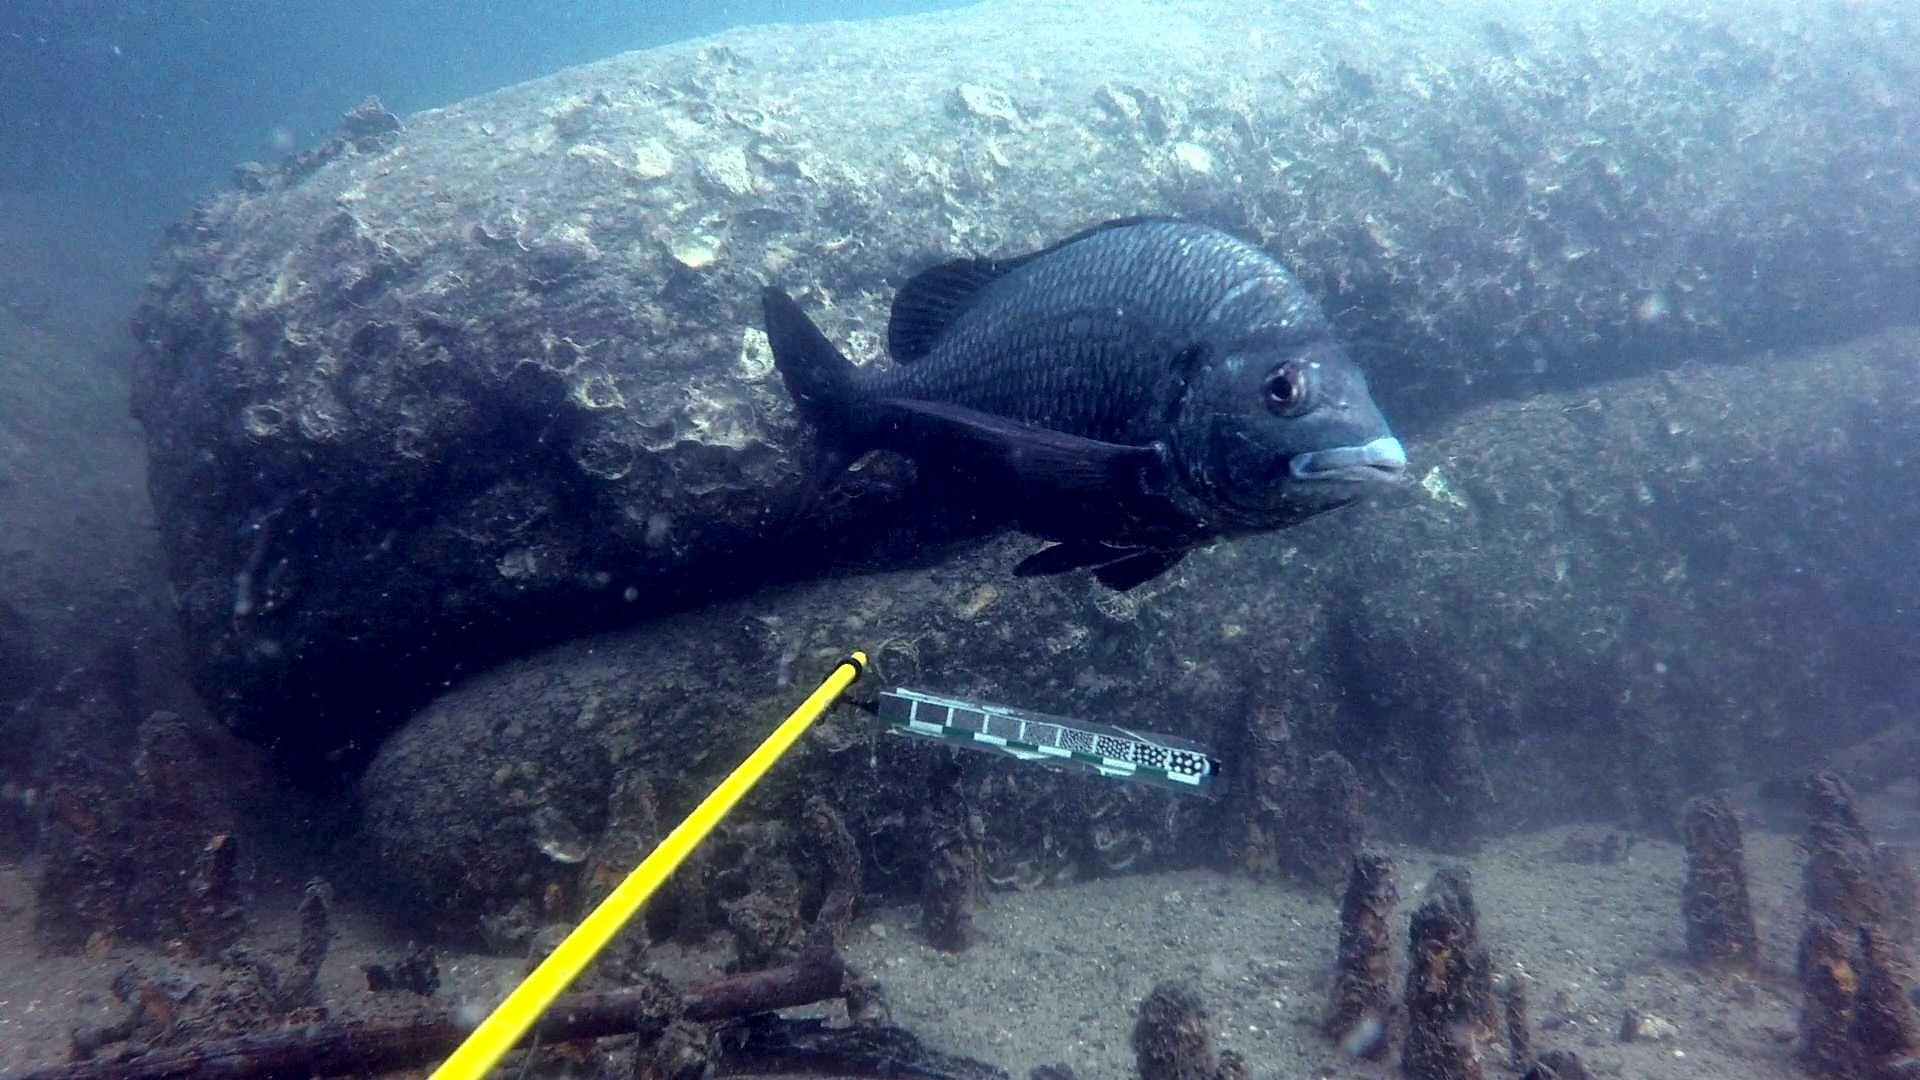acanthopagrus palmaris: (753, 200, 1420, 600)
